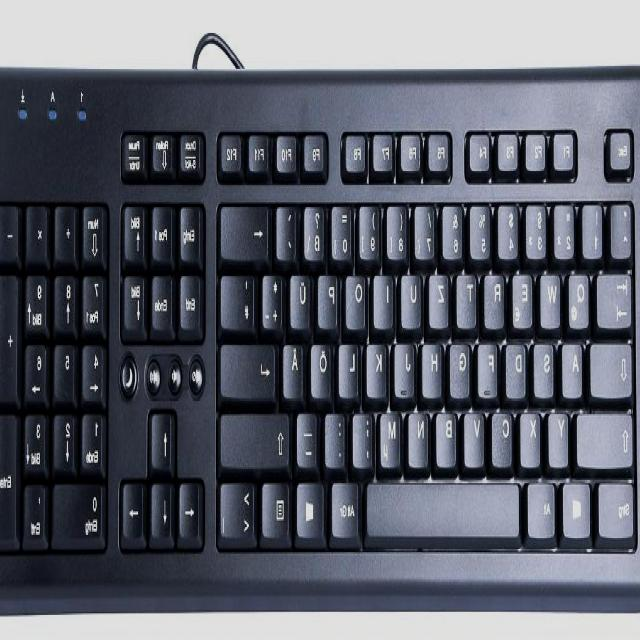0: (333, 198, 355, 259)
1: (584, 198, 606, 254)
2: (556, 198, 578, 256)
3: (527, 198, 549, 256)
4: (499, 198, 521, 256)
5: (471, 198, 495, 256)
6: (444, 198, 466, 258)
7: (416, 198, 438, 258)
8: (388, 198, 410, 259)
9: (360, 197, 384, 259)
a: (564, 336, 586, 394)
accent: (278, 198, 300, 258)
ae: (284, 338, 306, 396)
alt-left: (528, 475, 558, 535)
altgr-right: (333, 476, 363, 534)
b: (437, 405, 461, 463)
c: (492, 407, 516, 465)
caret: (613, 196, 635, 254)
comma: (355, 407, 377, 465)
d: (507, 336, 529, 396)
del: (222, 198, 272, 258)
e: (514, 267, 536, 325)
enter: (221, 337, 279, 397)
f: (479, 336, 501, 394)
g: (451, 338, 473, 394)
h: (424, 336, 446, 394)
hash: (222, 270, 257, 328)
i: (375, 269, 397, 325)
j: (396, 336, 418, 394)
k: (368, 336, 390, 394)
keyboard: (0, 55, 640, 617)
l: (340, 338, 362, 394)
less: (219, 475, 259, 541)
m: (381, 405, 405, 465)
minus: (298, 407, 320, 463)
n: (410, 405, 432, 465)
o: (348, 269, 370, 327)
oe: (312, 338, 334, 396)
p: (320, 267, 342, 325)
plus: (264, 267, 286, 327)
point: (326, 407, 348, 465)
q: (569, 265, 593, 326)
r: (486, 267, 508, 325)
s: (534, 336, 558, 394)
shift-left: (578, 405, 636, 466)
shift-lock: (591, 336, 635, 394)
shift-right: (221, 407, 291, 465)
space: (367, 475, 523, 535)
ss: (306, 198, 328, 259)
strg-left: (600, 476, 638, 537)
t: (458, 267, 480, 325)
tab: (599, 265, 635, 325)
u: (403, 267, 425, 327)
ue: (292, 267, 314, 327)
v: (465, 405, 487, 463)
w: (542, 267, 564, 325)
x: (521, 407, 543, 465)
y: (549, 405, 571, 465)
z: (430, 267, 452, 325)
